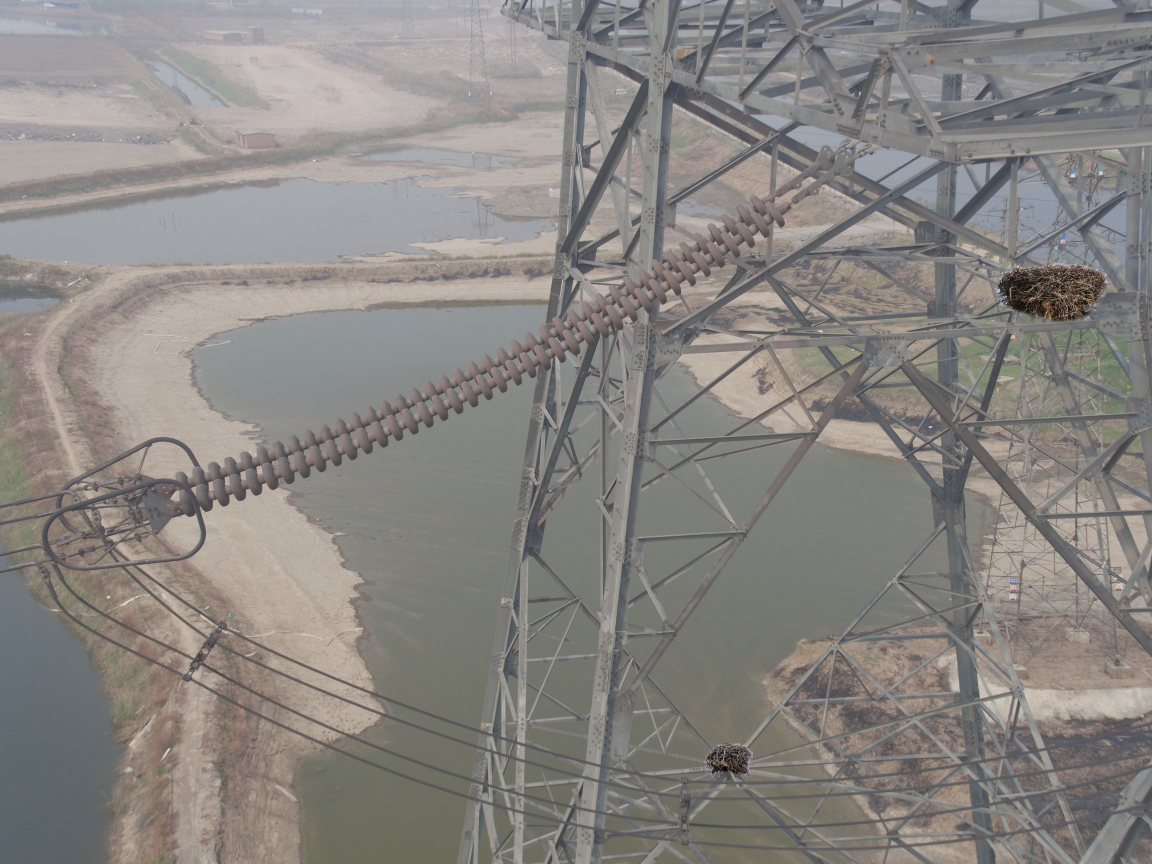nest: (999, 261, 1111, 324), (702, 742, 755, 778)
